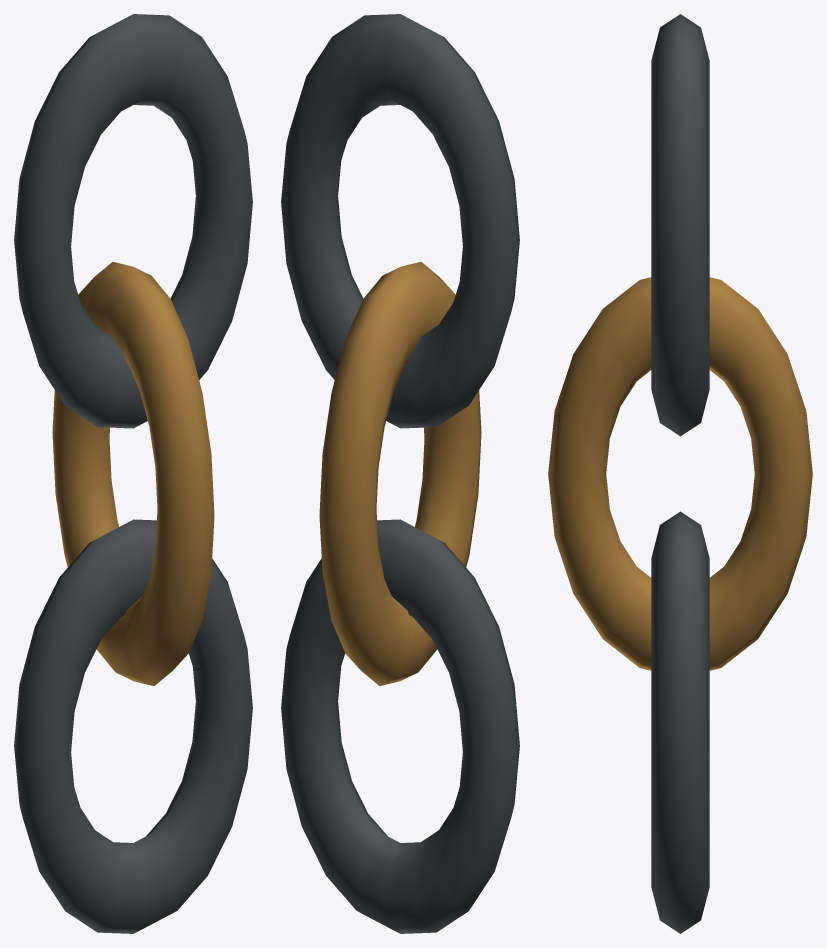
File: part_chain_link.glb
3 views of the same model, side by side, from view 1: azimuth 30°, elevation 25°; view 2: azimuth 150°, elevation 25°; view 3: azimuth 270°, elevation 25° (orthographic).
Visible parts, largest first — view 1: part_chain_link; view 2: part_chain_link; view 3: part_chain_link.
Boxes of the visible parts, x1,y1,x2,y2 form: part_chain_link: (14, 14, 252, 933); part_chain_link: (281, 14, 519, 933); part_chain_link: (548, 14, 812, 933).
Bounding box in the file's own units: 0.082 × 0.3094 × 0.082.
